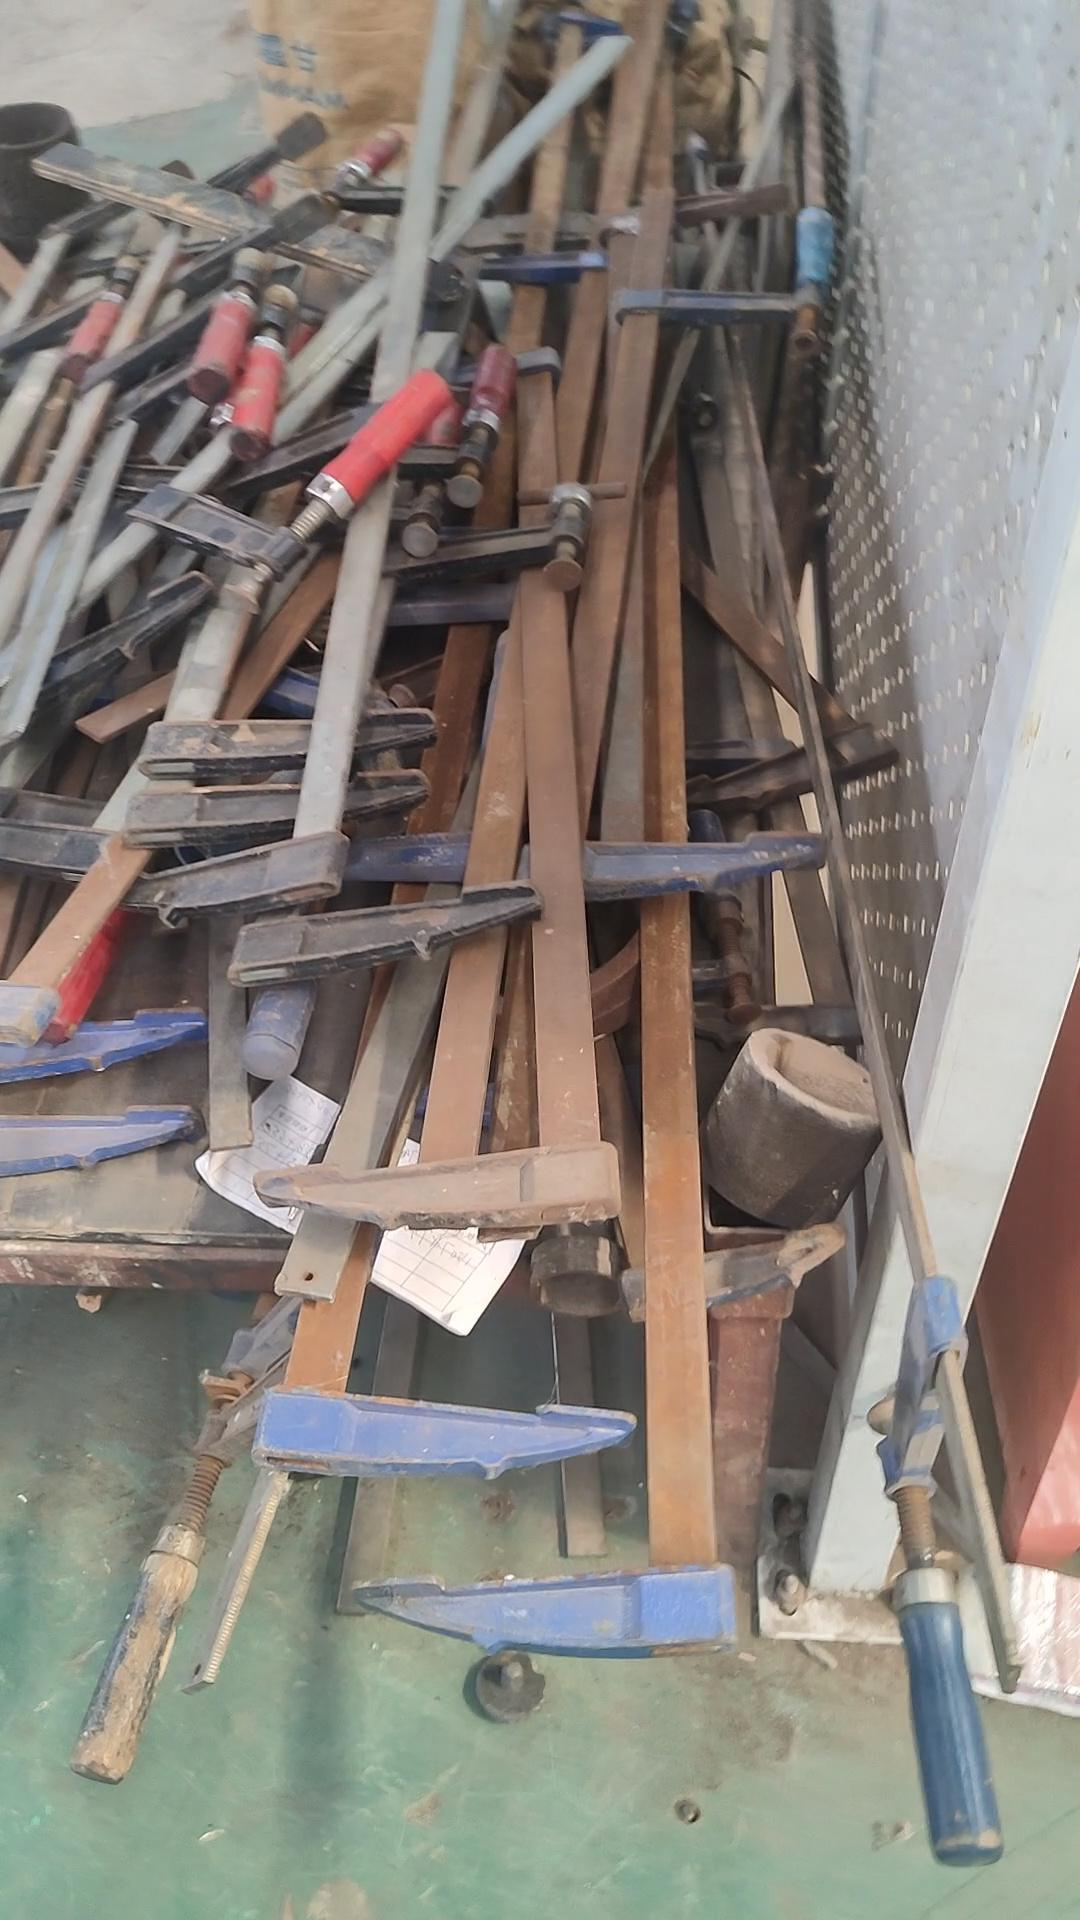pouring hole: (745, 1025, 891, 1125), (1, 102, 69, 149)
